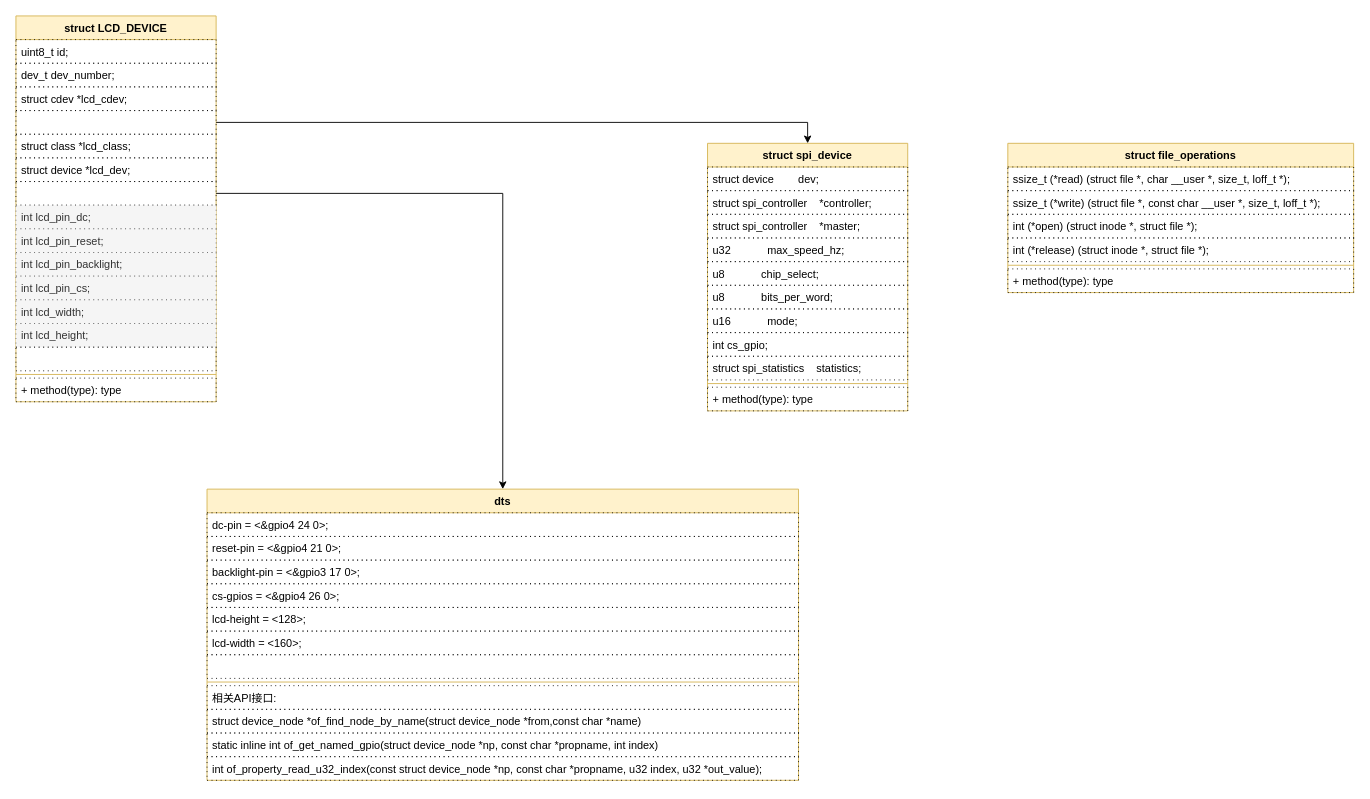
Image size: 1370x799. Some labels were removed from this diagram. The centre of each missing label's shape, as x and y in pixels:
"struct device_node *lcd_dev_node;" goes at (x=115, y=193).
"struct spi_device *lcd_spi_dev;" goes at (x=115, y=122).
